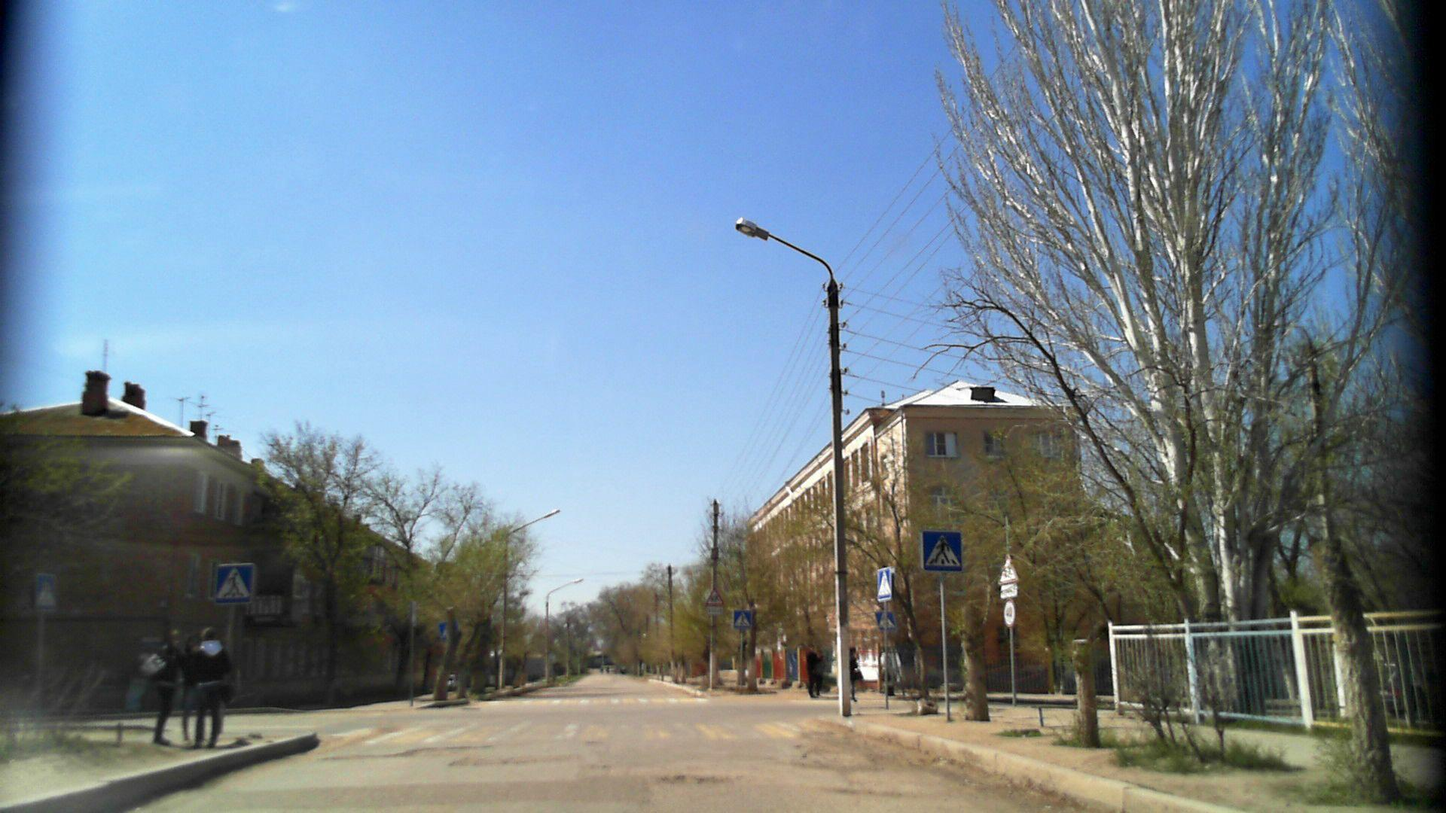road_sign: (215, 562, 256, 604), (922, 530, 963, 572)
